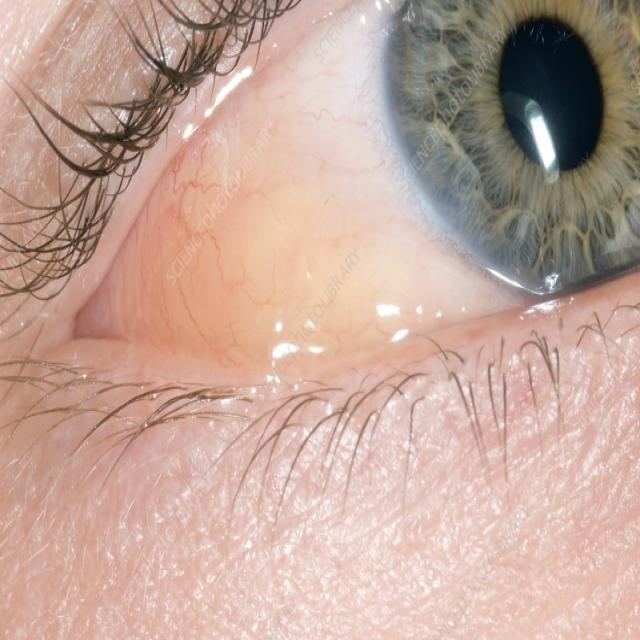Conjunctivitis: (56, 55, 507, 405)
